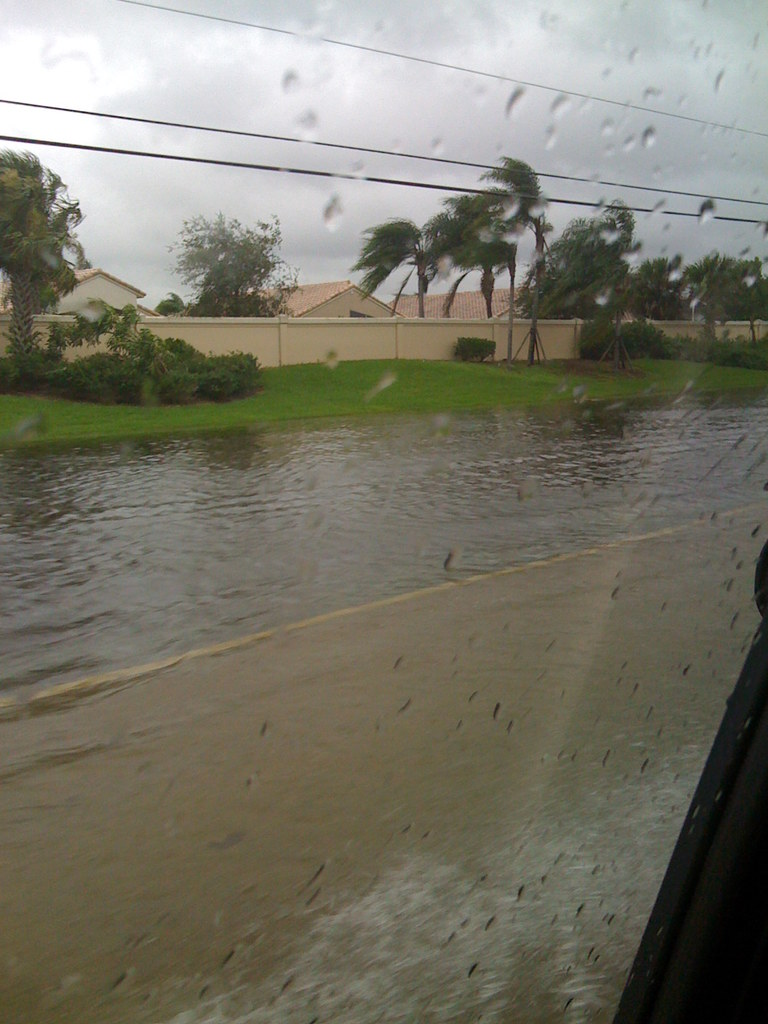Tree: (350, 159, 552, 321), (0, 147, 92, 366), (612, 252, 767, 357), (166, 210, 302, 322), (523, 196, 638, 320), (479, 154, 554, 304), (442, 182, 517, 308)
